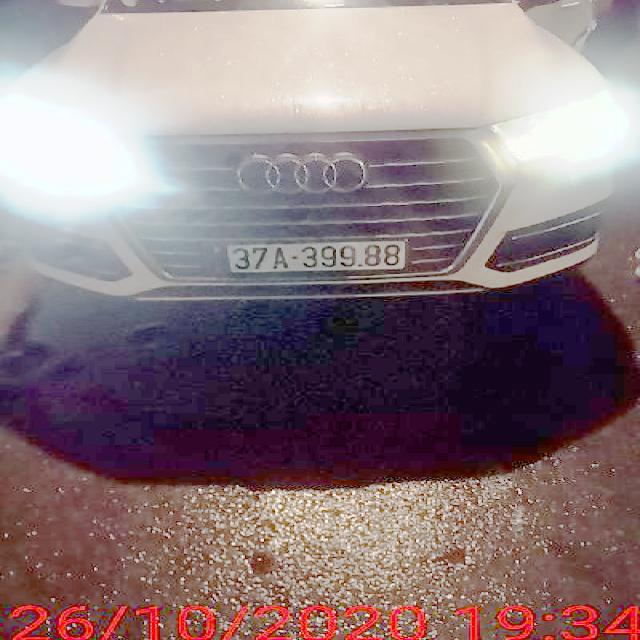license_plate: (225, 241, 410, 271)
